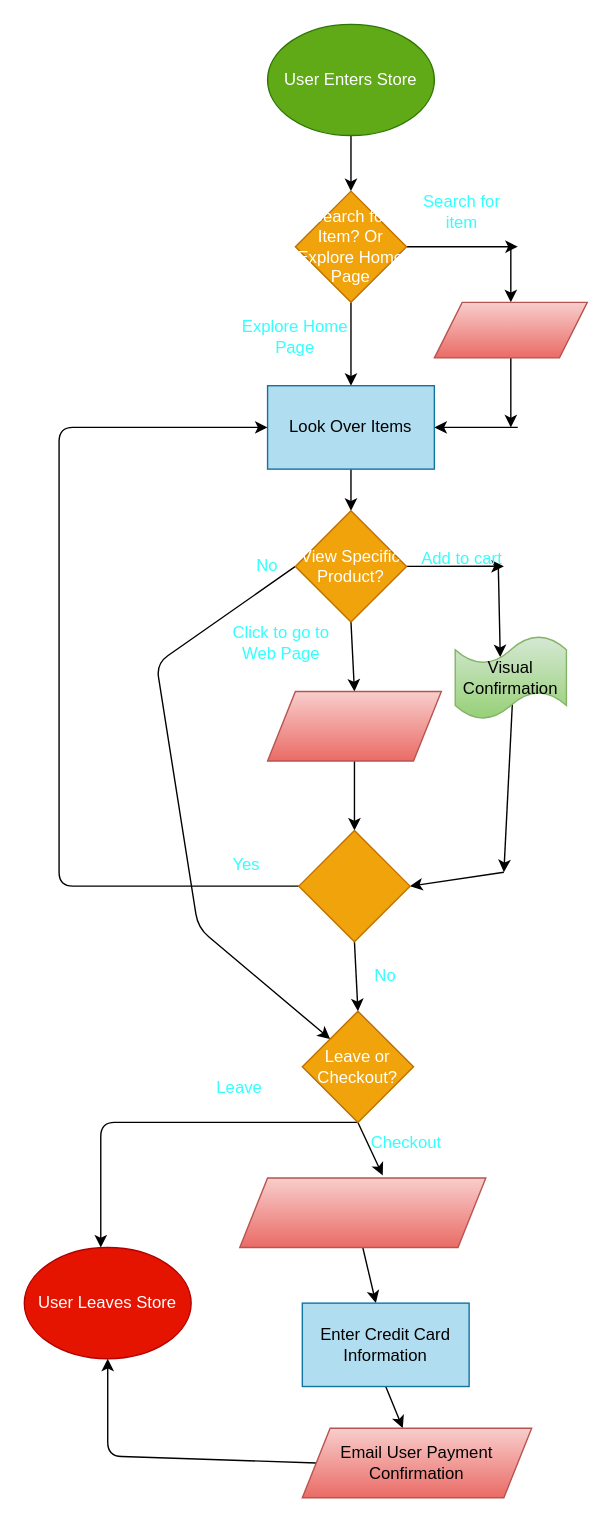
Image size: 612x1522. Some labels were removed from this diagram. The shapes that lost their labels are listed below. From the top down, each one's box as (x1, y1, x2, y2) in pixels, then its label:
(433, 301, 587, 358): Send Input
(266, 690, 441, 761): Change to Product Web Page
(297, 829, 410, 942): Continue Shopping?
(238, 1177, 486, 1248): Change to Checkout Page
